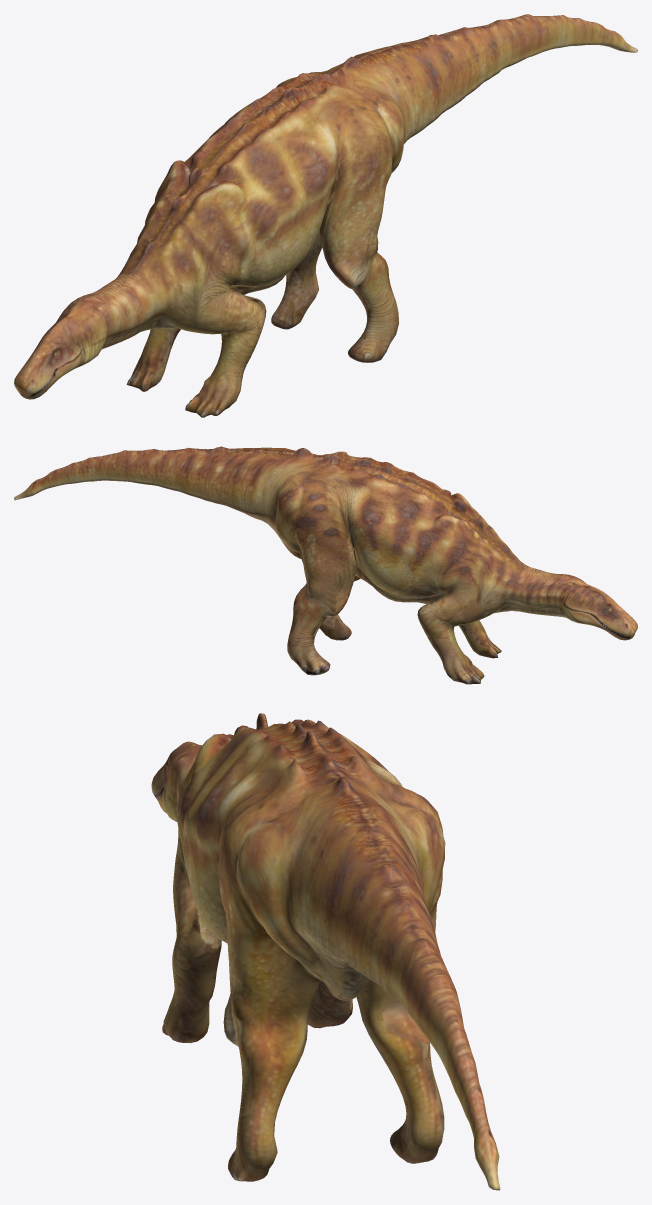
The picture shows the model from 3 angles, top to bottom: view 1: azimuth 30°, elevation 25°; view 2: azimuth 150°, elevation 25°; view 3: azimuth 270°, elevation 25°; orthographic projection. The views are drawn at different scales.
Visible parts, largest first — view 1: Mesh0; view 2: Mesh0; view 3: Mesh0.
Boxes of the visible parts, bbox=[...] form: Mesh0: bbox=[14, 14, 637, 417]; Mesh0: bbox=[14, 446, 637, 684]; Mesh0: bbox=[151, 713, 500, 1190].
Size of the model in its own units: 1.56 by 0.5629 by 0.4347.
1 material, 1 textured.
